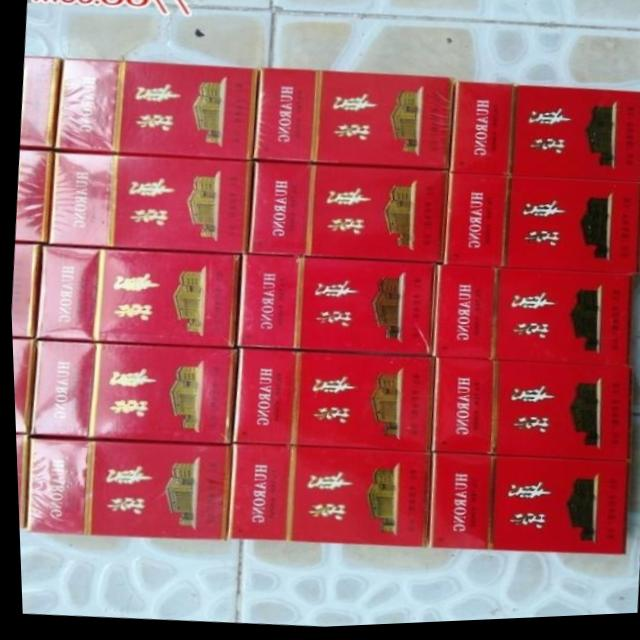box: (26, 339, 235, 444), (20, 437, 228, 542), (224, 444, 427, 551), (45, 151, 251, 256), (31, 245, 238, 349), (229, 349, 431, 454), (429, 360, 629, 466), (51, 59, 256, 162), (427, 456, 627, 560), (245, 163, 446, 266), (252, 70, 453, 172), (442, 176, 639, 280), (432, 268, 628, 372), (235, 257, 433, 359), (447, 85, 640, 188)
